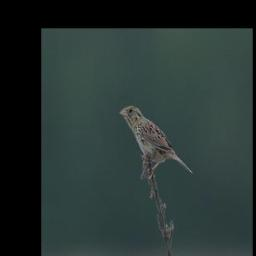Sparrow: (121, 103, 194, 180)
